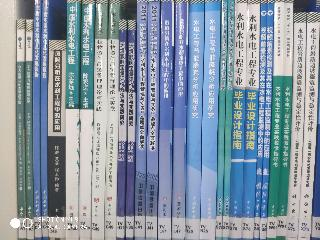book-spine: (201, 1, 220, 239), (299, 13, 319, 239), (286, 13, 306, 239), (229, 1, 247, 239), (186, 2, 203, 238), (158, 1, 174, 239), (276, 1, 292, 238), (172, 2, 188, 239), (105, 1, 120, 239), (243, 2, 258, 238), (268, 1, 282, 239), (145, 1, 159, 239), (93, 2, 107, 239), (79, 1, 93, 238), (134, 1, 147, 239), (254, 2, 266, 239), (67, 2, 79, 239), (50, 42, 64, 239), (261, 1, 272, 238), (216, 1, 227, 238), (223, 1, 233, 238), (117, 22, 125, 238), (17, 22, 25, 238), (127, 21, 134, 238), (26, 21, 33, 238), (35, 1, 41, 238), (43, 1, 48, 238)
